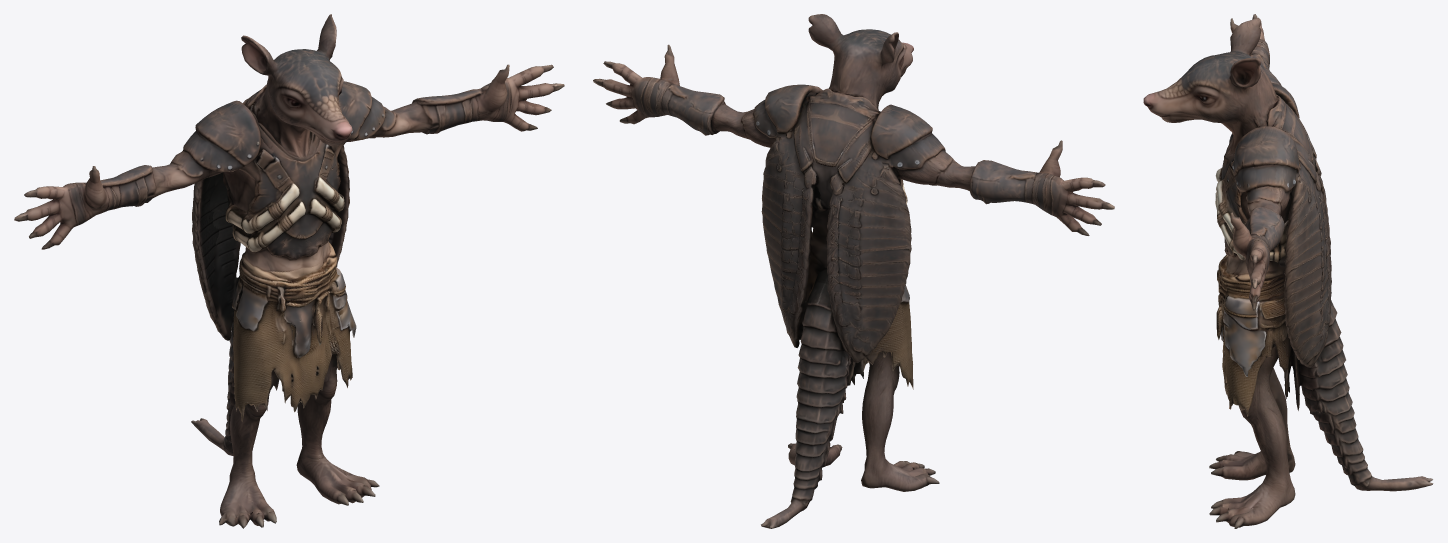
The model's file is 179_orig.glb.
3 views of the same model, side by side, from view 1: azimuth 30°, elevation 25°; view 2: azimuth 150°, elevation 25°; view 3: azimuth 270°, elevation 25° (orthographic). The views are drawn at different scales.
Parts seen in each view (by area): view 1: geometry_0; view 2: geometry_0; view 3: geometry_0.
Part boxes in pixels (bbox=[...]): geometry_0: bbox=[14, 14, 564, 528]; geometry_0: bbox=[593, 14, 1114, 528]; geometry_0: bbox=[1143, 14, 1433, 528].
Bounding box in the file's own units: 1 × 0.831 × 0.476.
Materials: 1 (1 with a texture image).
